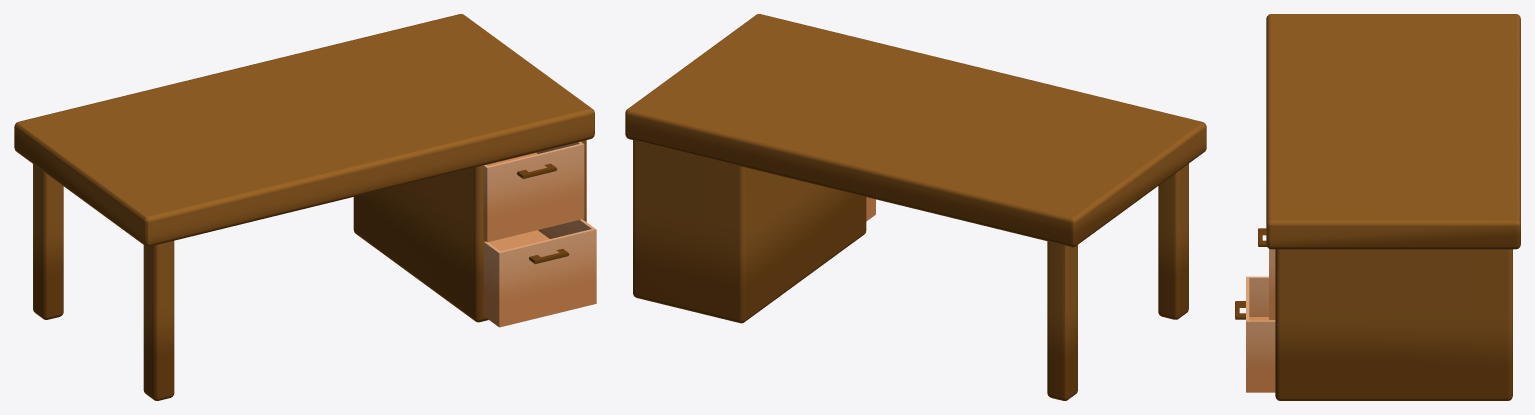
The model's file is SM_Desk_01.fbx.
3 renders of one model, left to right at view 1: azimuth 30°, elevation 25°; view 2: azimuth 150°, elevation 25°; view 3: azimuth 270°, elevation 25°, orthographic. The views are drawn at different scales.
Parts seen in each view (by area): view 1: SM_Desk_01; view 2: SM_Desk_01; view 3: SM_Desk_01.
Part boxes in pixels (left/top/right/bottom): SM_Desk_01: left=14, top=14, right=596, bottom=400; SM_Desk_01: left=625, top=14, right=1206, bottom=400; SM_Desk_01: left=1235, top=14, right=1520, bottom=400.
Size of the model in its own units: 63.9 by 25.89 by 36.82.
